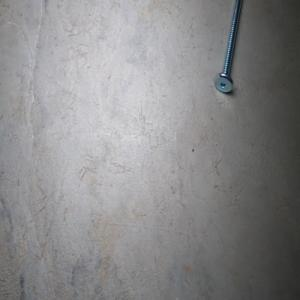Bolt: (213, 0, 242, 93)
